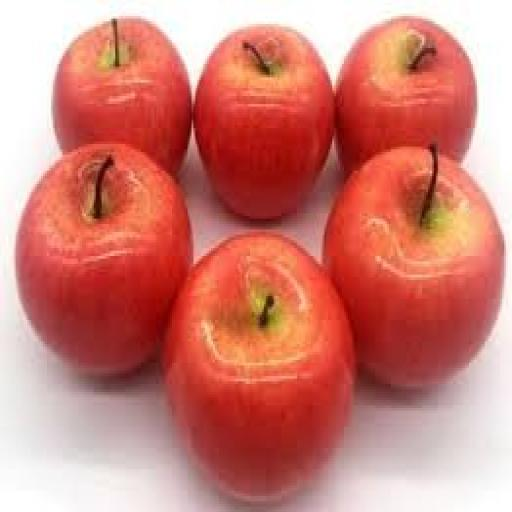apple: (165, 232, 353, 501), (325, 147, 504, 386), (16, 144, 191, 373), (194, 27, 334, 218), (337, 16, 476, 173), (53, 19, 191, 175)
